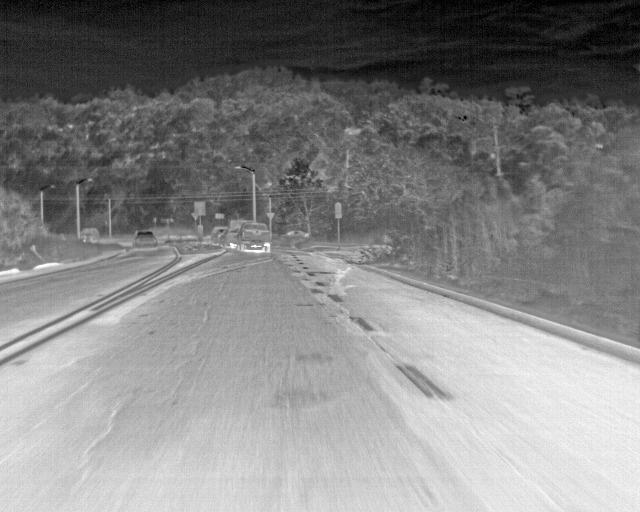car: (239, 221, 271, 255), (131, 232, 157, 251), (210, 225, 227, 245), (226, 222, 238, 248), (80, 227, 99, 243)
